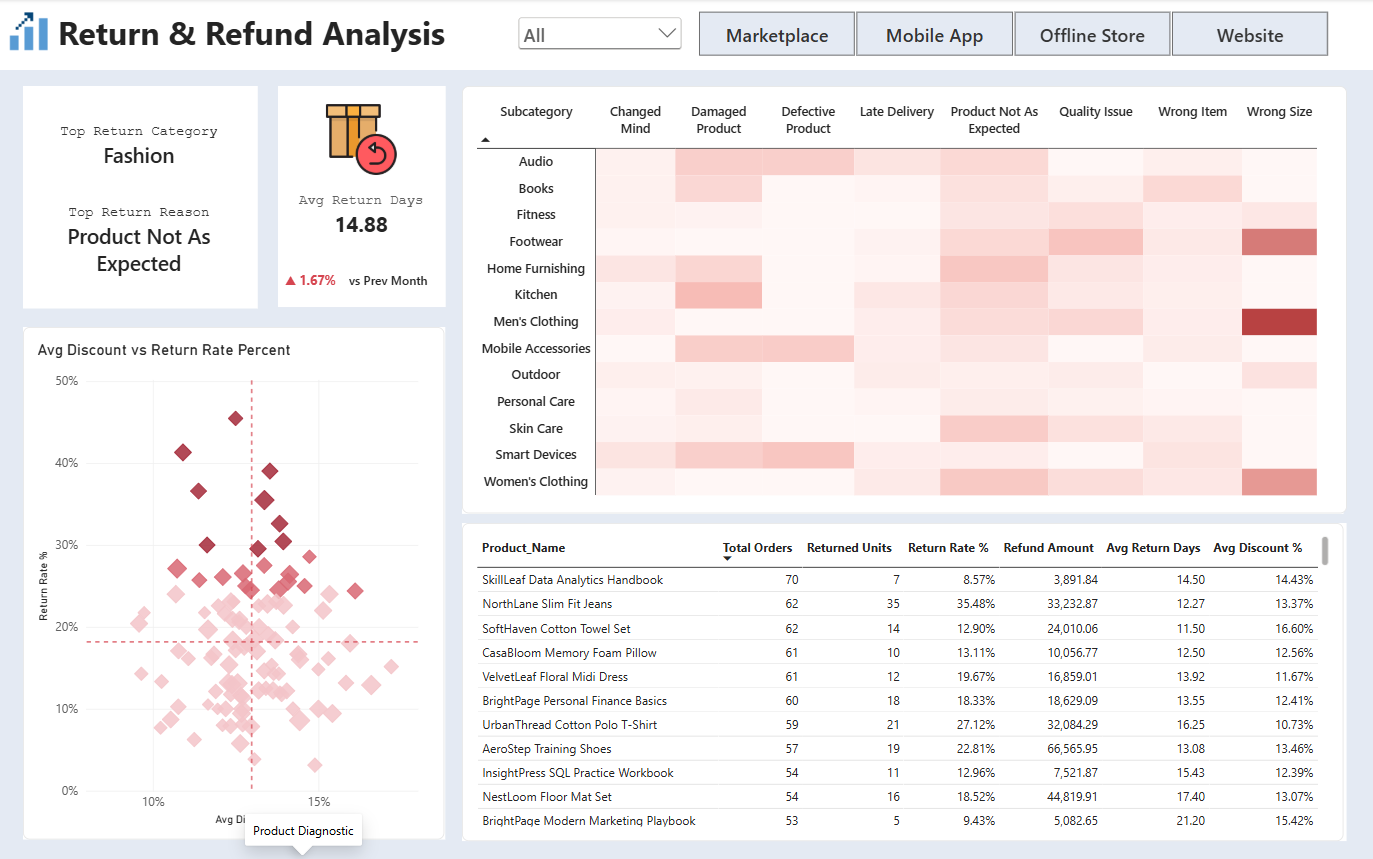

The page's visual inventory and layout, read from the dashboard file:
{"tool":"powerbi","page":{"name":"Product Diagnostic","canvas":[1600,1000],"ordinal":1},"visuals":[{"type":"shape","box":[0,0,1600,82.6],"z":0},{"type":"shape","box":[28.6,101.6,273,258.7],"z":1000},{"type":"shape","box":[325.4,101.6,195.2,257.1],"z":2000},{"type":"shape","box":[539.7,120.6,1025.4,477.8],"z":5000},{"type":"shape","box":[539.7,609.5,1028.6,369.8],"z":6000},{"type":"shape","box":[28.8,381.2,491.2,596.2],"z":7000},{"type":"textbox","box":[70,13.8,477.6,55],"z":9000},{"type":"cardVisual","fields":{"Data":["measure2.Top Return Category"]},"box":[50.8,120.6,225.4,100],"z":10000},{"type":"cardVisual","fields":{"Data":["measure2.Average Return Days"]},"box":[325.4,206.3,193.7,92.1],"z":11000},{"type":"slicer","fields":{"Values":["dim_channel.Sales_Channel"]},"box":[794.3,13.3,771.5,55.1],"z":15000},{"type":"image","box":[363.5,120.6,117.3,85.5],"z":20000},{"type":"slicer","fields":{"Values":["dim_date.Month Name"]},"box":[600,16,200,50],"z":23000},{"type":"cardVisual","fields":{"Data":["measure2.Avg Return Days MOM Var"]},"box":[333.7,309,74.2,31.7],"z":27000},{"type":"textbox","box":[407.9,317,102.5,27.5],"z":28000},{"type":"cardVisual","fields":{"Data":["measure2.Top Return Reason"]},"box":[50.8,206.3,225.4,149.2],"z":28001},{"type":"pivotTable","fields":{"Columns":["dim_return-reason.Return_Reason"],"Rows":["dim_products.Subcategory"],"Values":["measure1.Returned Units"]},"box":[539.7,101.6,1028.6,496.8],"z":28002},{"type":"scatterChart","title":"Avg Discount vs Return Rate Percent","fields":{"Category":["dim_products.Product_Name"],"Size":["measure1.Total Orders"],"X":["measure2.Avg Discount %"],"Y":["measure1.Return Rate %"]},"box":[28.8,381.2,490,596.2],"z":28003},{"type":"tableEx","fields":{"Values":["dim_products.Product_Name","measure1.Total Orders","measure1.Returned Units","measure1.Return Rate %","measure1.Refund Amount","measure2.Avg Return Days","measure2.Avg Discount %"]},"box":[539.3,609.8,1024.6,370.5],"z":28004},{"type":"image","box":[6,11,59,54],"z":28005}]}

Visuals, with their boxes in screenshot pixels (x1, y1, x2, y2), scaled from the page's 1600x1000 canvas onto the 1373x859 screenshot:
shape: x1=0 y1=0 x2=1372 y2=71
shape: x1=25 y1=87 x2=259 y2=309
shape: x1=279 y1=87 x2=447 y2=308
shape: x1=463 y1=104 x2=1343 y2=514
shape: x1=463 y1=524 x2=1346 y2=841
shape: x1=25 y1=327 x2=446 y2=840
textbox: x1=60 y1=12 x2=470 y2=59
cardVisual - measure2.Top Return Category: x1=44 y1=104 x2=237 y2=189
cardVisual - measure2.Average Return Days: x1=279 y1=177 x2=445 y2=256
slicer - dim_channel.Sales_Channel: x1=682 y1=11 x2=1344 y2=59
image: x1=312 y1=104 x2=413 y2=177
slicer - dim_date.Month Name: x1=515 y1=14 x2=686 y2=57
cardVisual - measure2.Avg Return Days MOM Var: x1=286 y1=265 x2=350 y2=293
textbox: x1=350 y1=272 x2=438 y2=296
cardVisual - measure2.Top Return Reason: x1=44 y1=177 x2=237 y2=305
pivotTable - dim_return-reason.Return_Reason x dim_products.Subcategory: x1=463 y1=87 x2=1346 y2=514
"Avg Discount vs Return Rate Percent" scatterChart: x1=25 y1=327 x2=445 y2=840
tableEx - dim_products.Product_Name x measure1.Total Orders: x1=463 y1=524 x2=1342 y2=842
image: x1=5 y1=9 x2=56 y2=56
